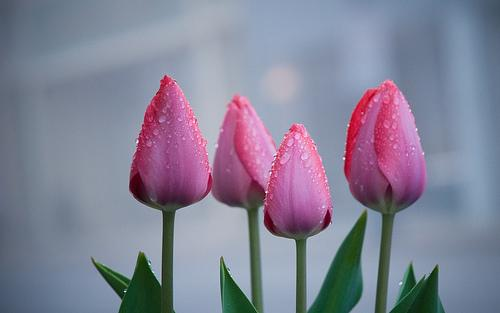tulip: (128, 74, 215, 210), (344, 79, 425, 212), (262, 122, 334, 238), (211, 93, 276, 207)
